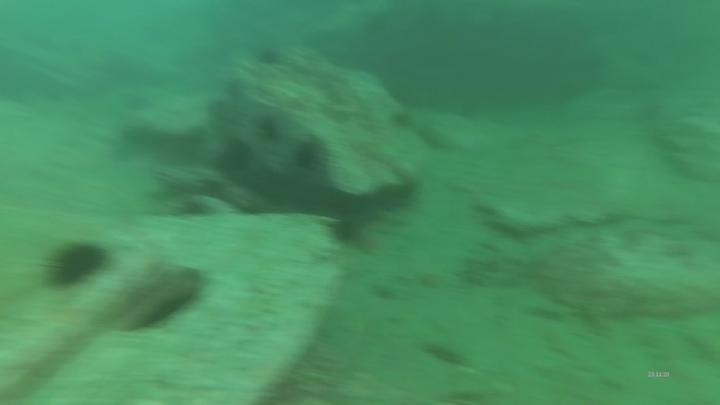echinus: (41, 234, 112, 293), (222, 135, 254, 175), (336, 212, 363, 246), (298, 138, 321, 173), (258, 116, 283, 148)
